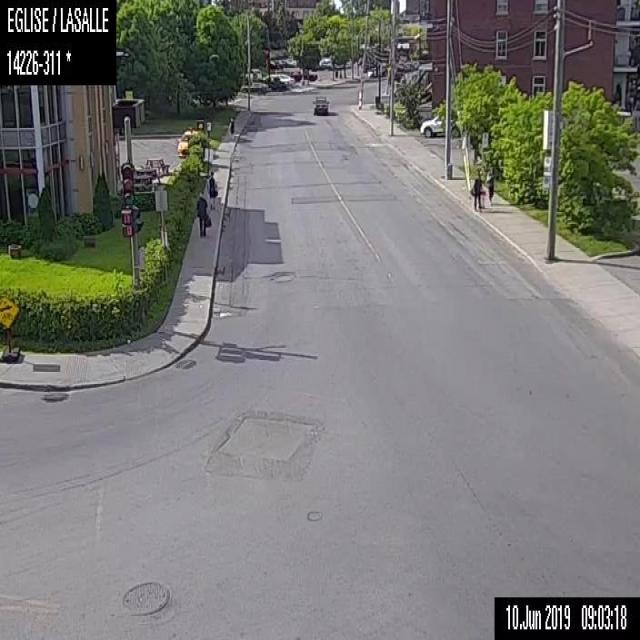pedestrian: (196, 191, 212, 236), (469, 168, 484, 212), (484, 164, 495, 207), (206, 169, 217, 210), (228, 116, 234, 140)
vehicle: (420, 112, 460, 138), (176, 124, 200, 158), (239, 79, 268, 94), (312, 93, 328, 115), (276, 72, 294, 86)
